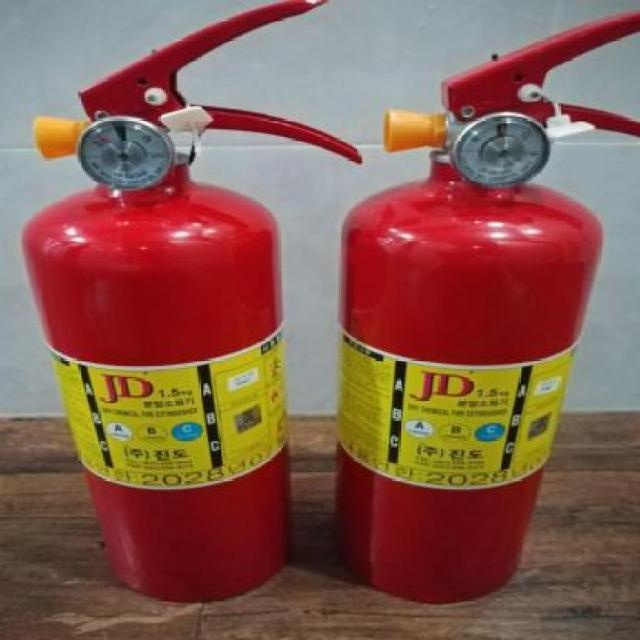fire extinguisher: (22, 0, 363, 602), (332, 8, 640, 603)
